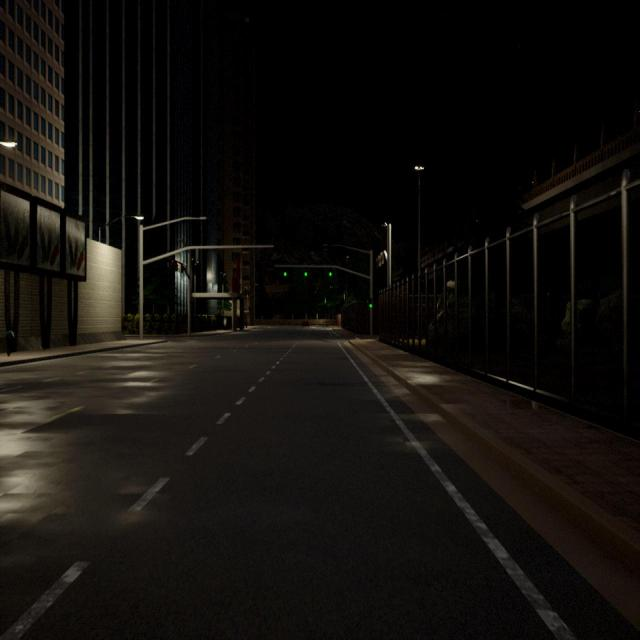Pedestrian: (4, 322, 16, 358)
Vehicle: (301, 319, 310, 328)
traffic_light: (174, 260, 179, 271), (380, 252, 384, 264), (283, 266, 287, 276), (368, 298, 372, 308), (304, 266, 308, 276), (328, 267, 332, 277), (170, 259, 174, 269), (378, 255, 381, 267), (181, 263, 184, 273), (376, 258, 378, 262)
